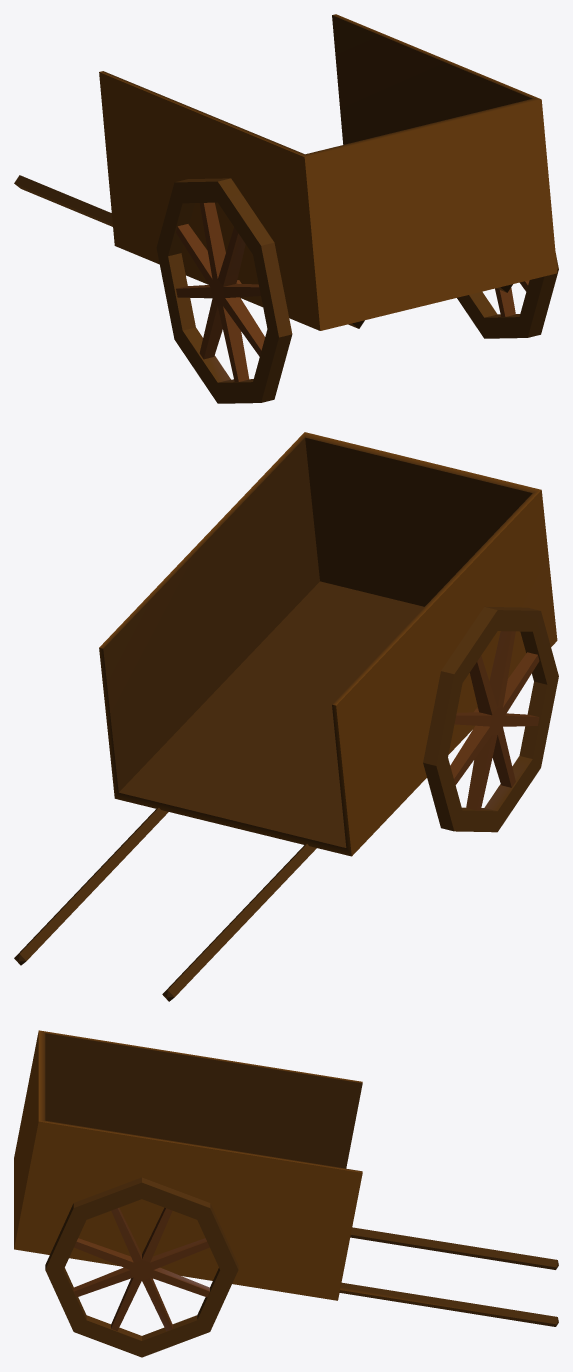
The model's file is Cart.glb.
3 renders of one model, top to bottom at view 1: azimuth 30°, elevation 25°; view 2: azimuth 150°, elevation 25°; view 3: azimuth 270°, elevation 25°, orthographic. The views are drawn at different scales.
Parts seen in each view (by area): view 1: Cube, Cube.002, Cube.001; view 2: Cube, Cube.002; view 3: Cube, Cube.001.
Part boxes in pixels (left/top/right/bottom): Cube: left=14, top=14, right=557, bottom=330; Cube.002: left=156, top=178, right=292, bottom=403; Cube.001: left=457, top=253, right=558, bottom=338; Cube: left=14, top=432, right=557, bottom=1001; Cube.002: left=423, top=606, right=558, bottom=832; Cube: left=14, top=1030, right=558, bottom=1326; Cube.001: left=45, top=1177, right=238, bottom=1357.
Size of the model in its own units: 1.85 by 1.83 by 3.97.
